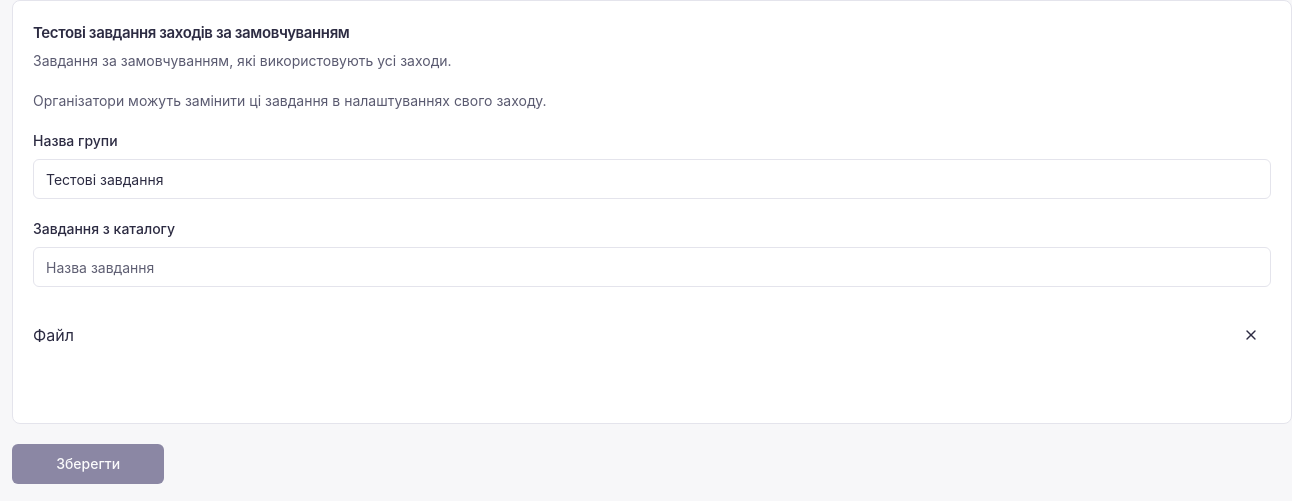
shows the empty state inside the dropdown only when nothing matches
Focus the dropdown at x=652, y=267, box top-left (33, 247), bottom-right (1271, 287)
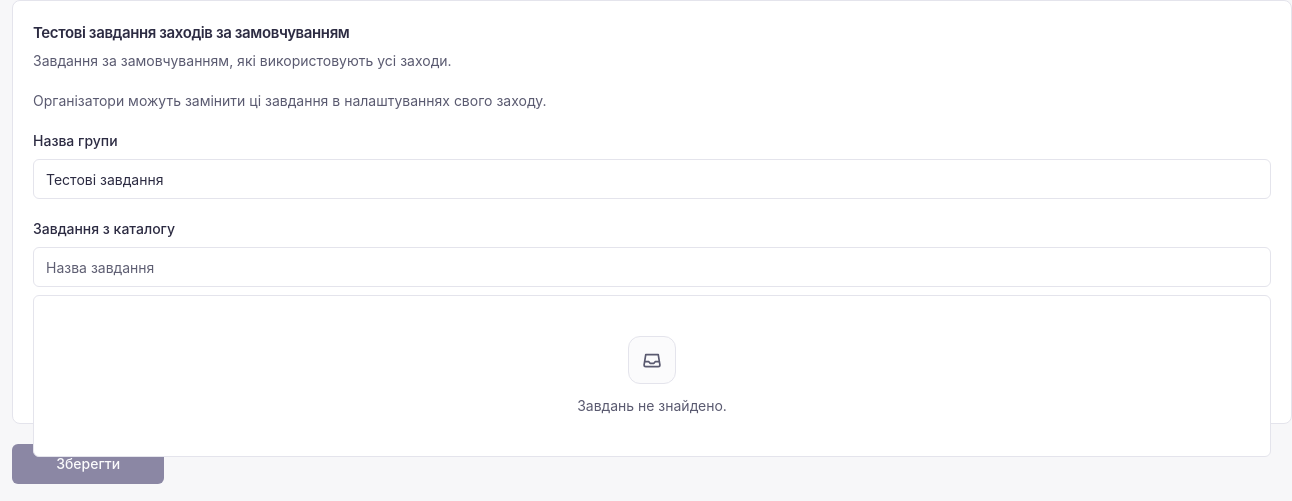
Now the list "Завдань не знайдено." is shown, box top-left (33, 295), bottom-right (1271, 457)
Now the text "Завдань не знайдено." is shown, box top-left (577, 396), bottom-right (727, 416)
